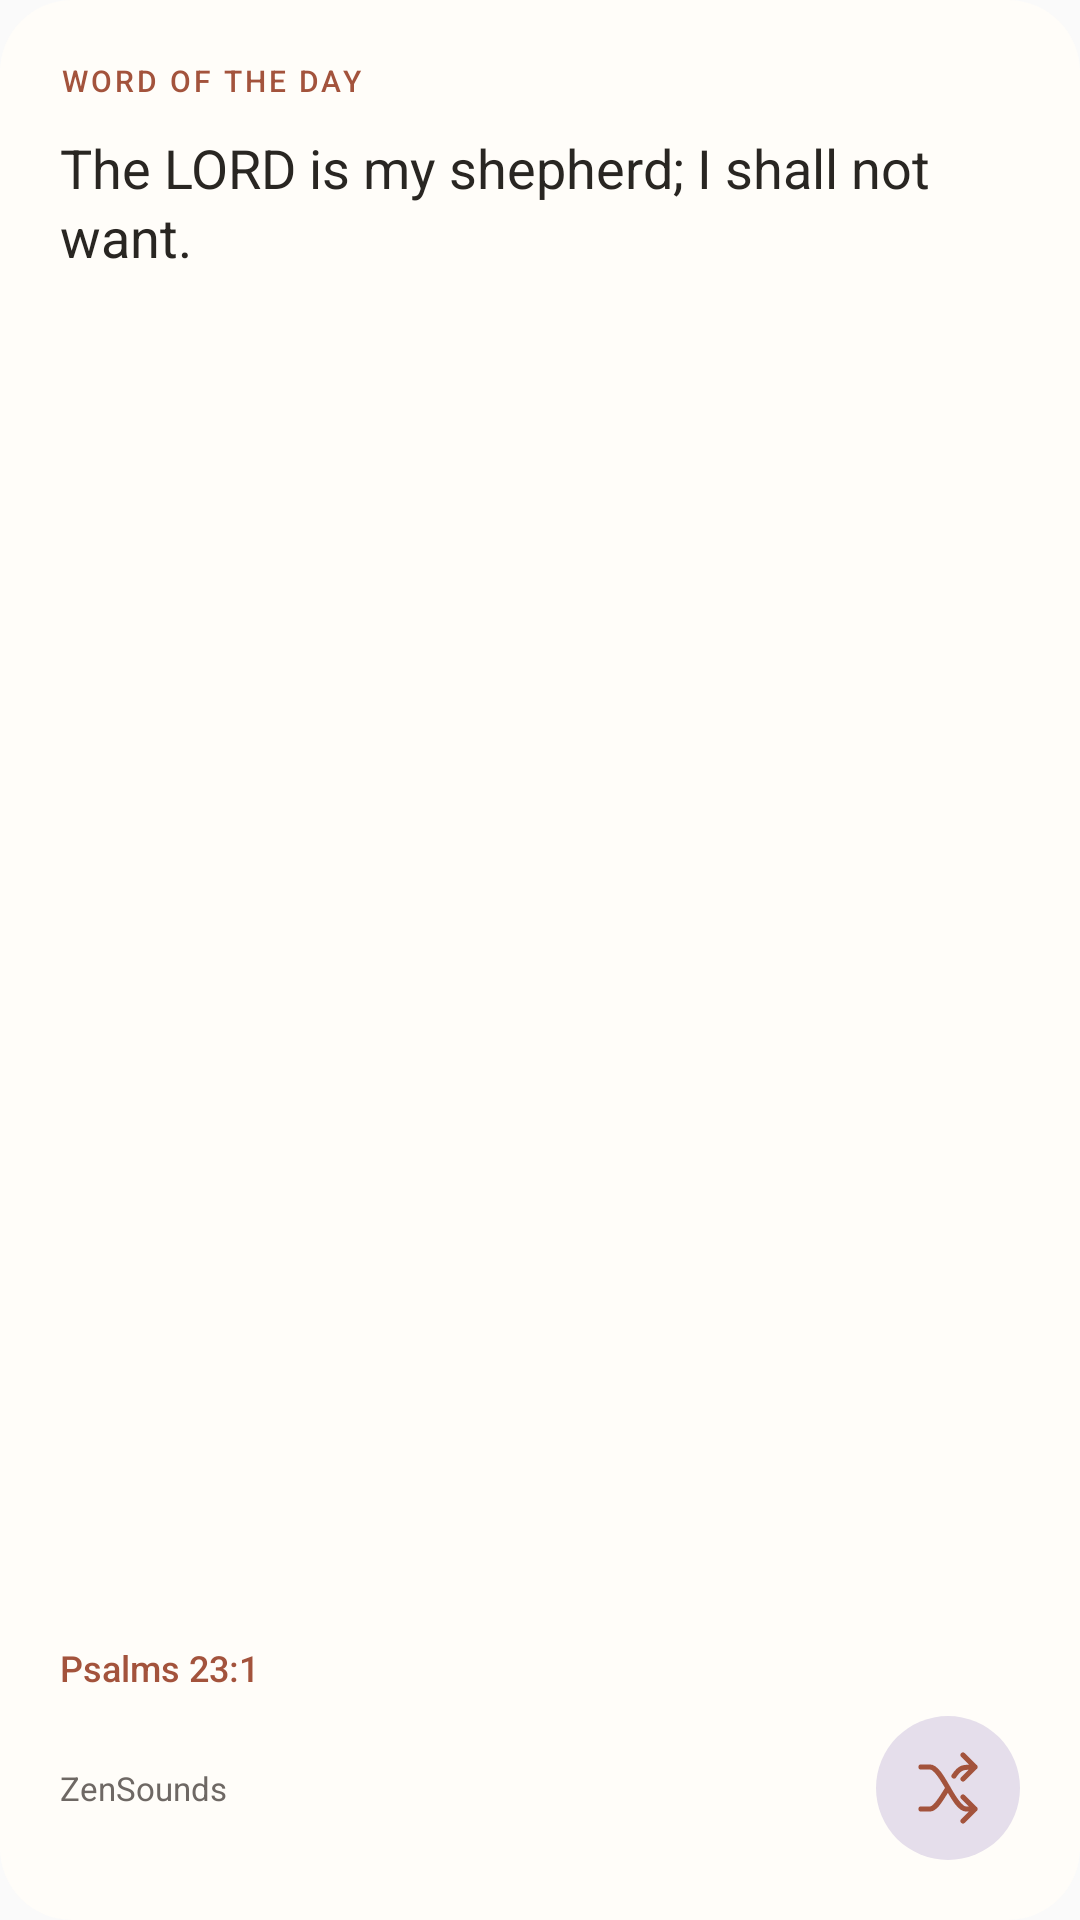

Named icons in this screenshot (1080px x 1920px) and their bounding boxes, bbox=(x1, y1, x2, y2):
New verse: bbox=(876, 1716, 1020, 1860)
